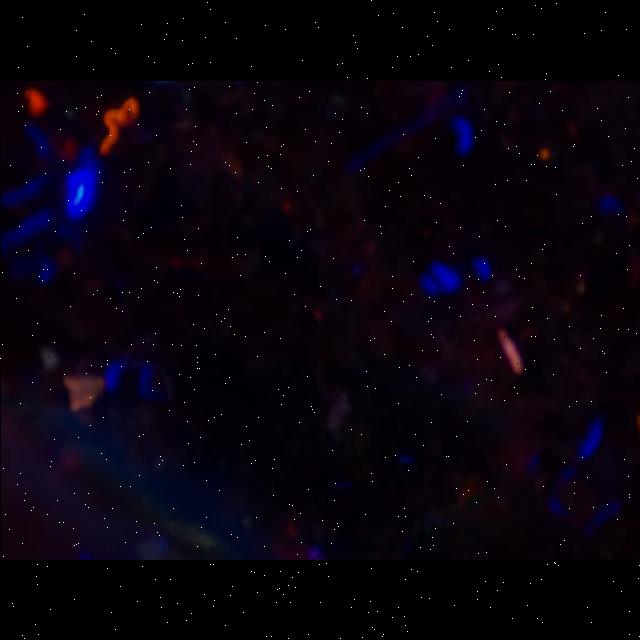Fragment: (496, 330, 524, 376)
